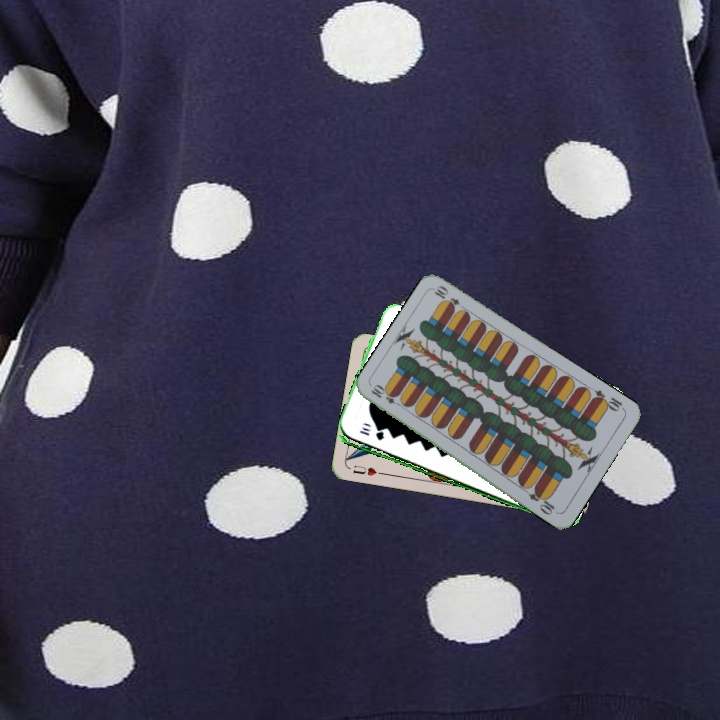E10: (588, 386, 627, 414), (367, 382, 405, 410)
G10: (356, 426, 387, 443)
HU: (349, 461, 386, 478)
